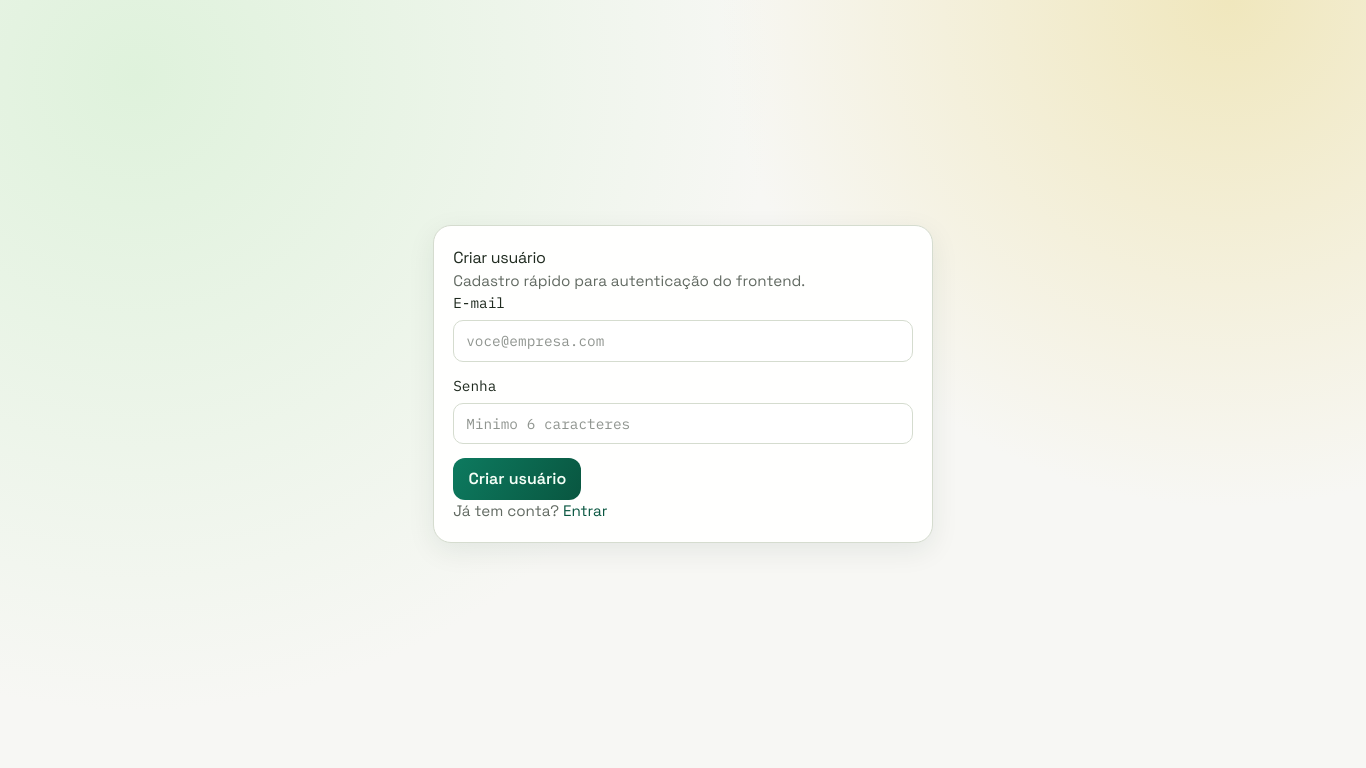
Test case: RegisterPage › shows validation error when password is too short
Type "user@example.com" into the field with placeholder "voce@empresa.com" at coordinates (683, 341), box [453,320,913,362]
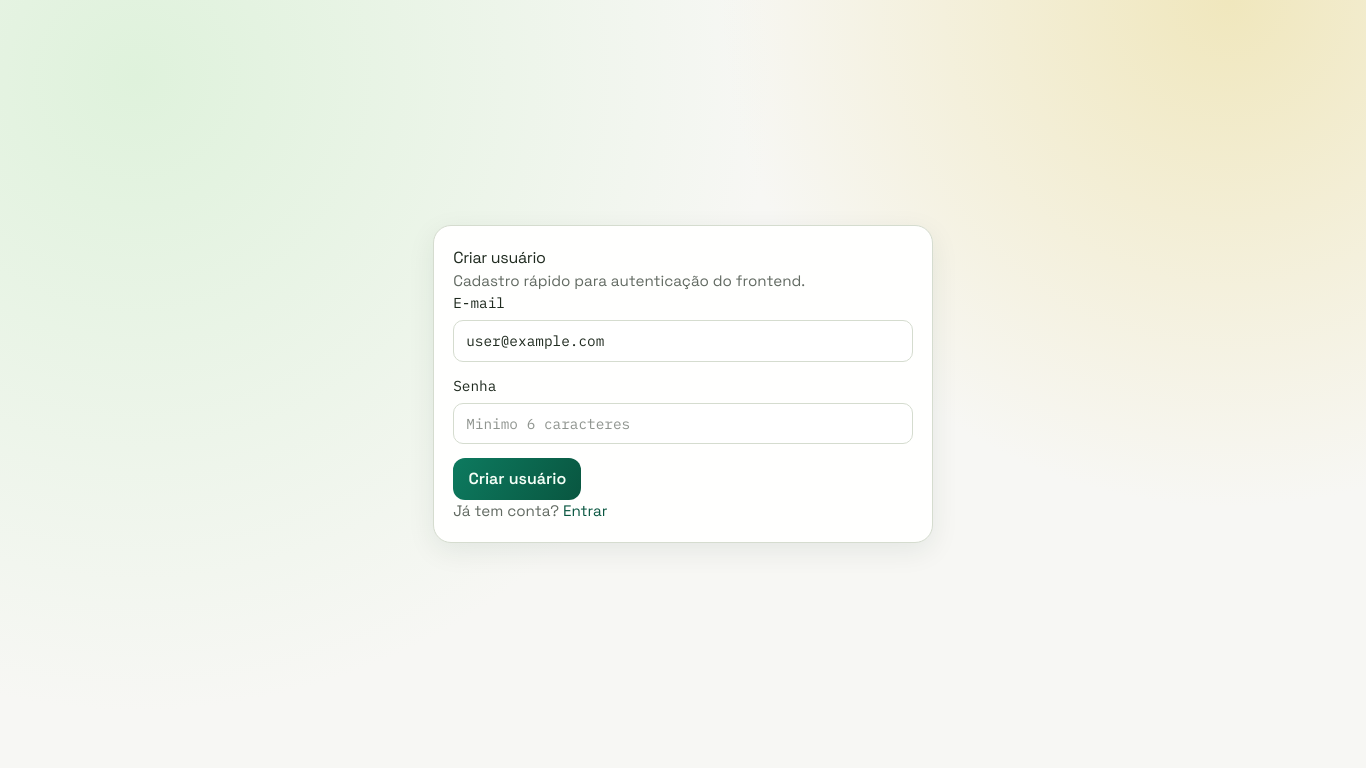
Type "123" into the password field with placeholder "Minimo 6 caracteres" at coordinates (683, 424), box [453,403,913,444]
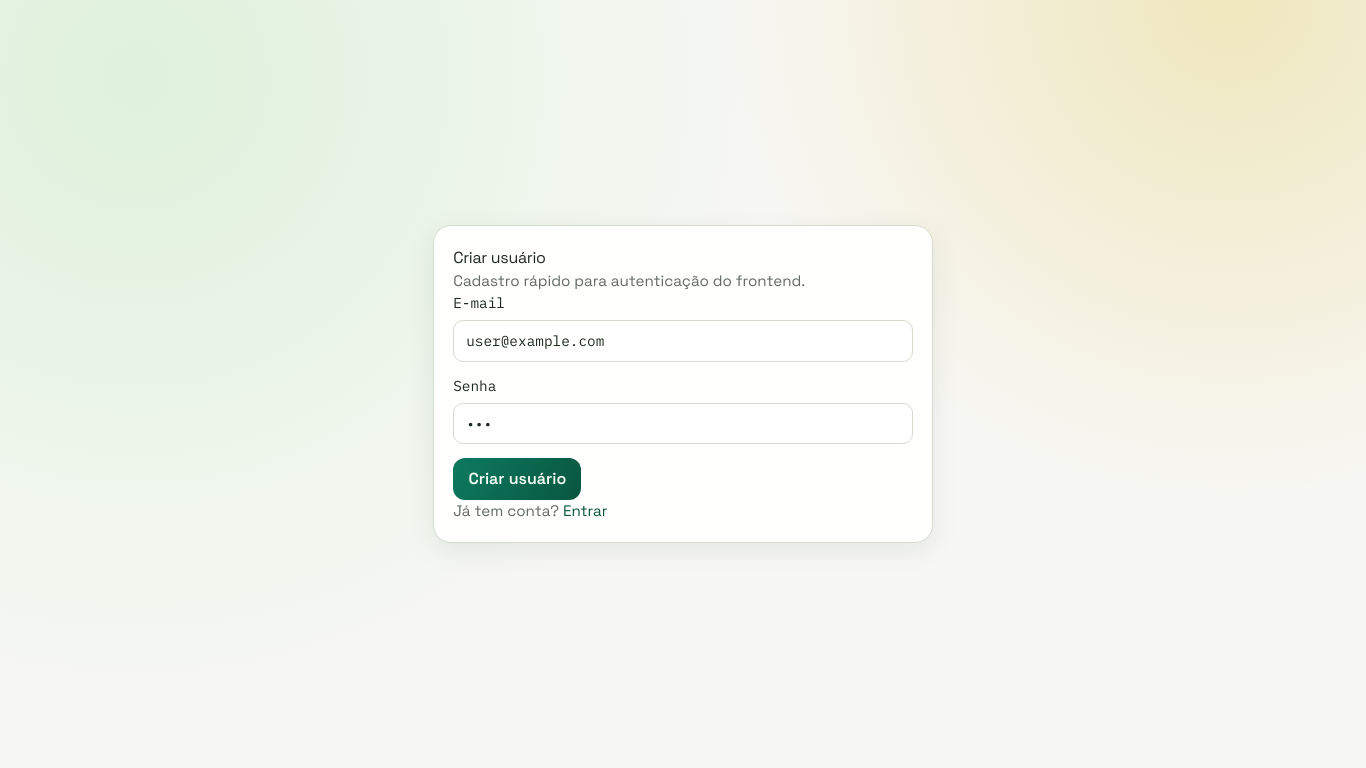
Click the button "Criar usuário" at coordinates (517, 479), box [453,458,581,500]
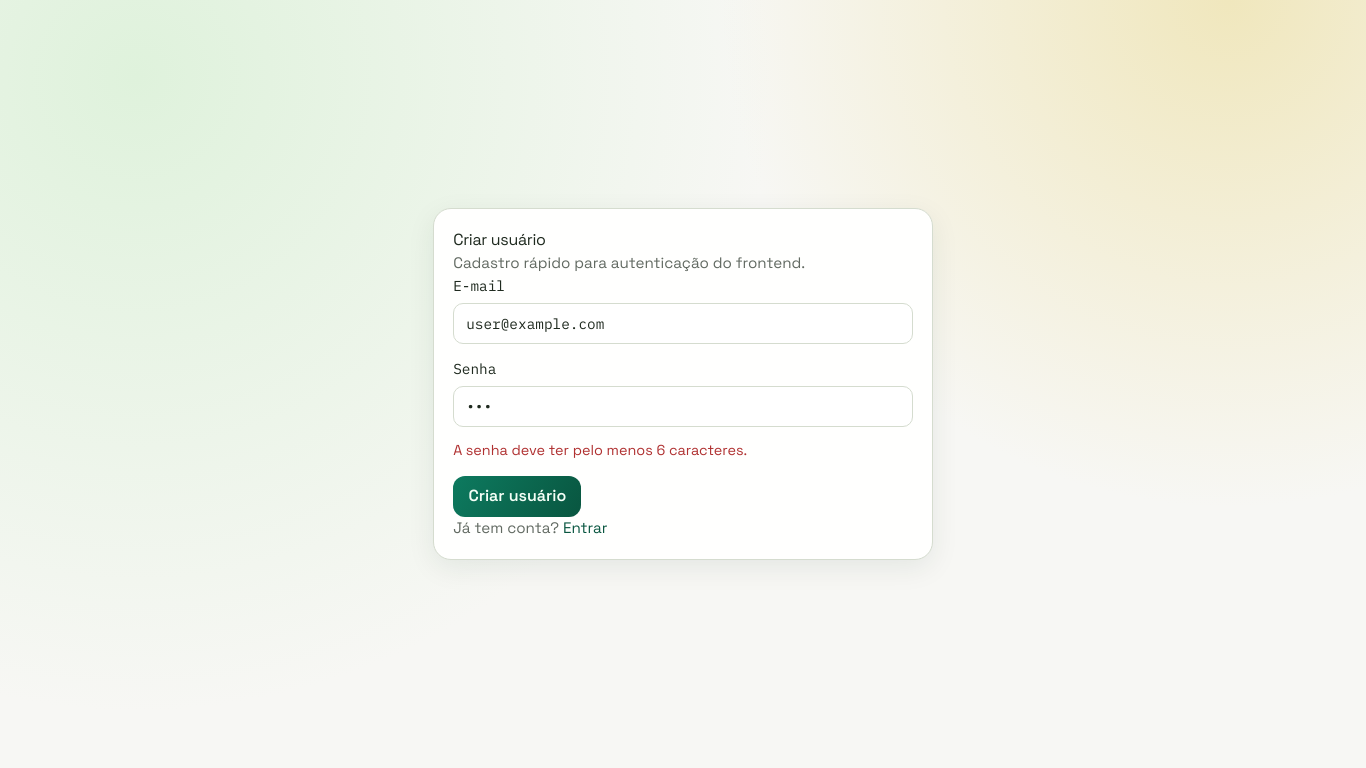
Now the text "A senha deve ter pelo menos 6 caracteres." is shown, box [453,441,747,459]
